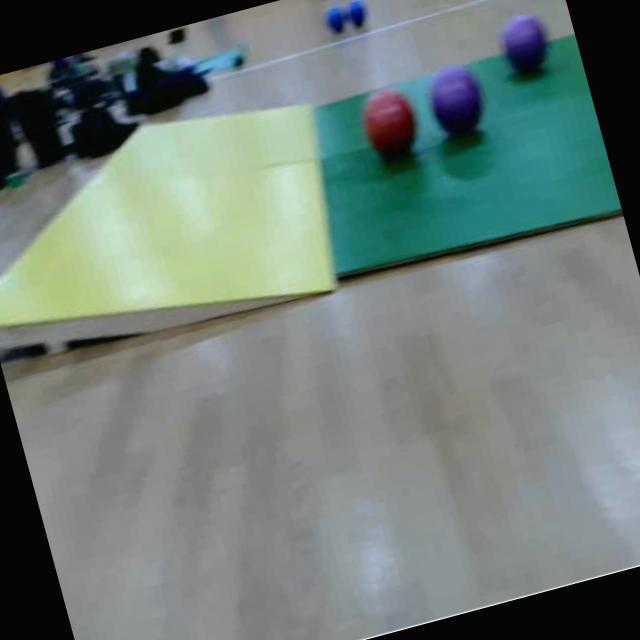blue_ball: (324, 3, 351, 38), (346, 0, 369, 27)
purple_ball: (421, 56, 491, 144), (492, 7, 559, 86)
red_ball: (352, 83, 428, 174)
